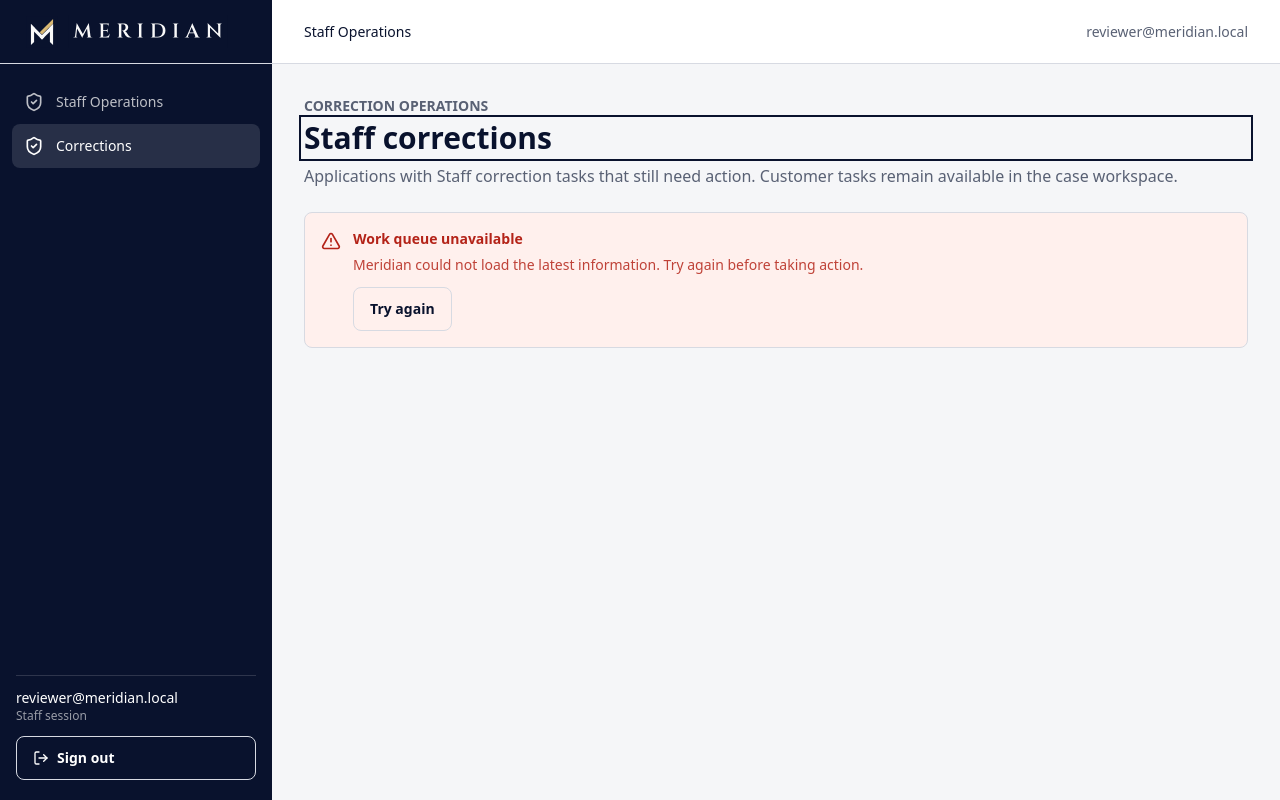
Test case: Staff correction queue freshness › shows an initial read error without rows or an empty claim and allows explicit retry
expect the heading "Work queue unavailable" is shown: met, box [353,229,523,248]
expect the heading "No Staff corrections on this page" is not shown: met
Click the button "Try again".
click(402, 309)  # box [353,287,452,331]
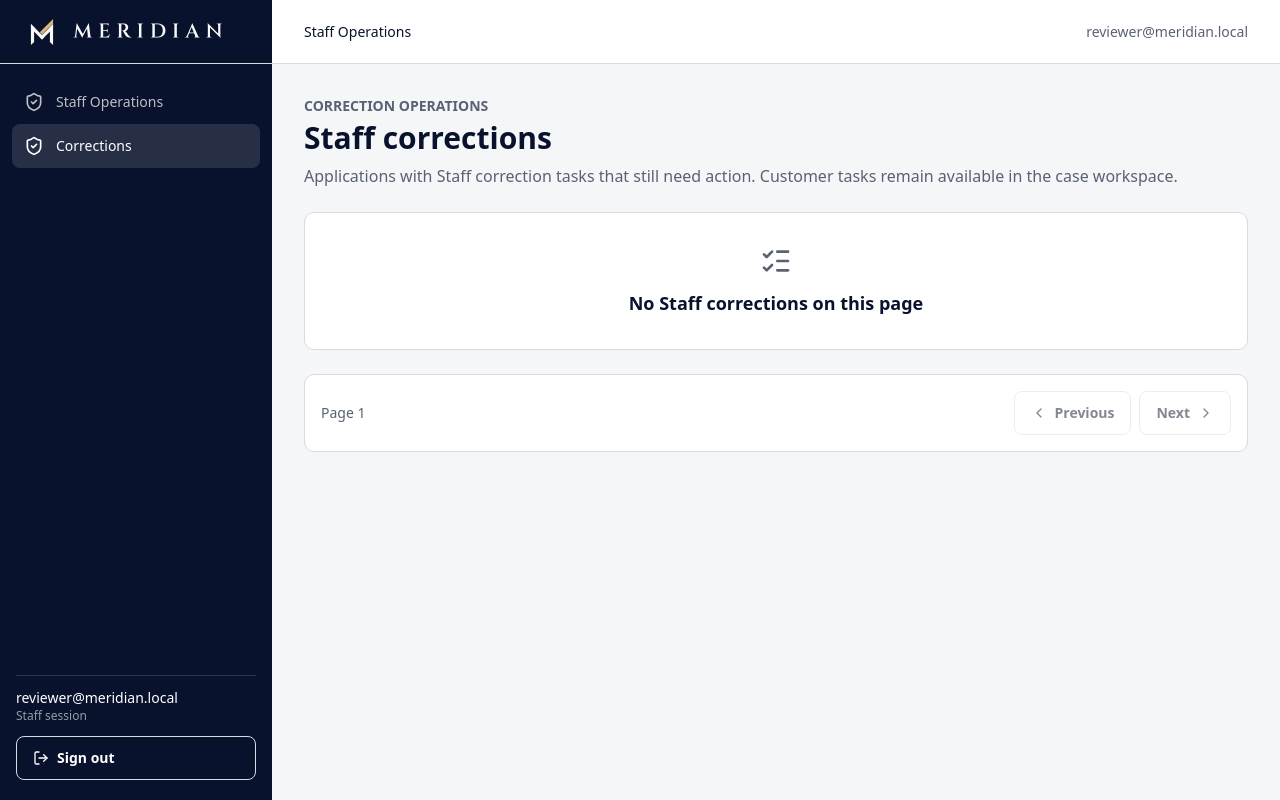
expect the heading "No Staff corrections on this page" is shown: met, box [629,291,923,315]
